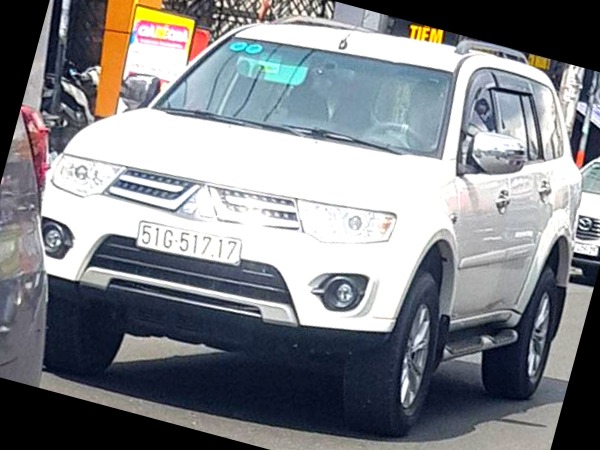lisence: (137, 220, 242, 266)
